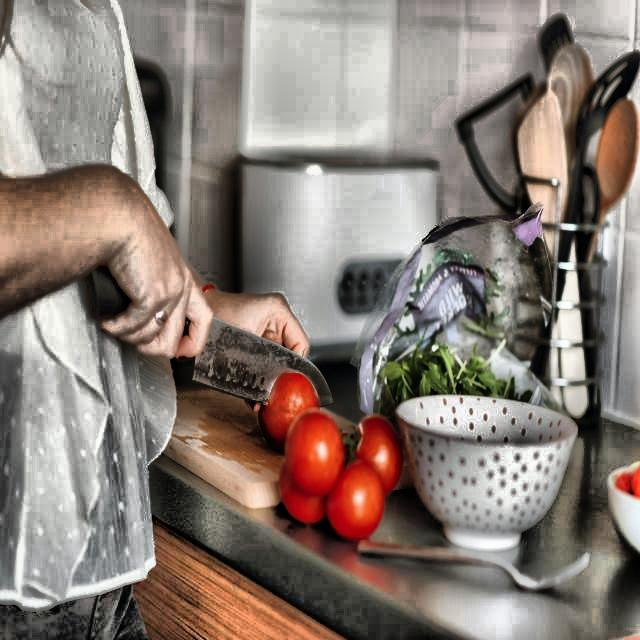knife: (85, 254, 347, 421)
